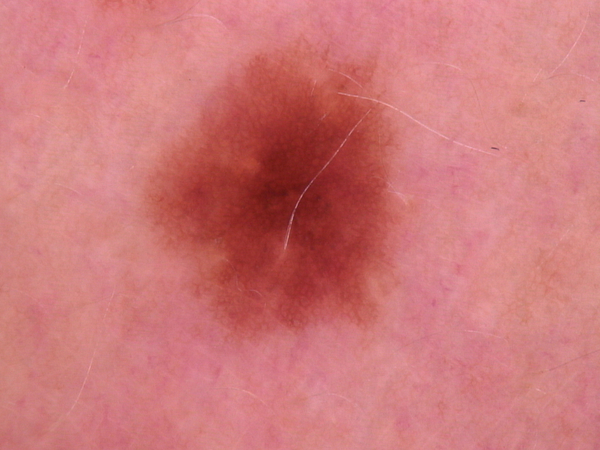Detected Lesion: (134, 33, 406, 332)
